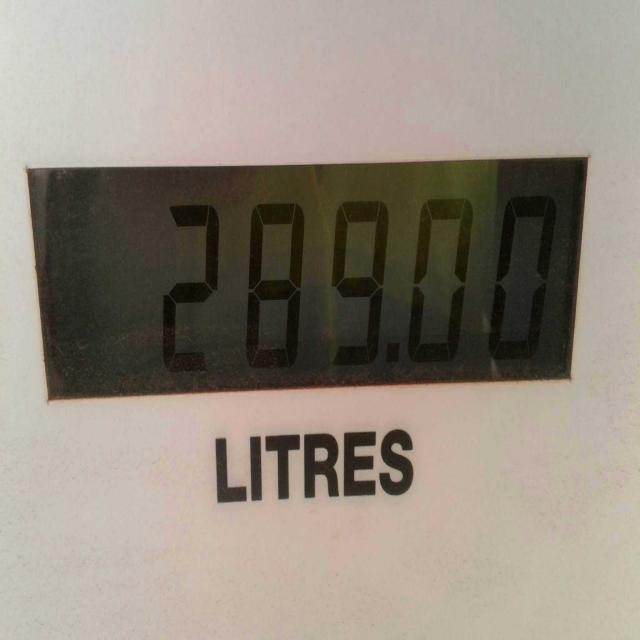.: (383, 339, 404, 367)
0: (488, 193, 560, 371), (407, 194, 477, 367)
2: (160, 197, 228, 385)
8: (244, 198, 310, 375)
9: (332, 198, 390, 368)
screen: (22, 159, 576, 400)
